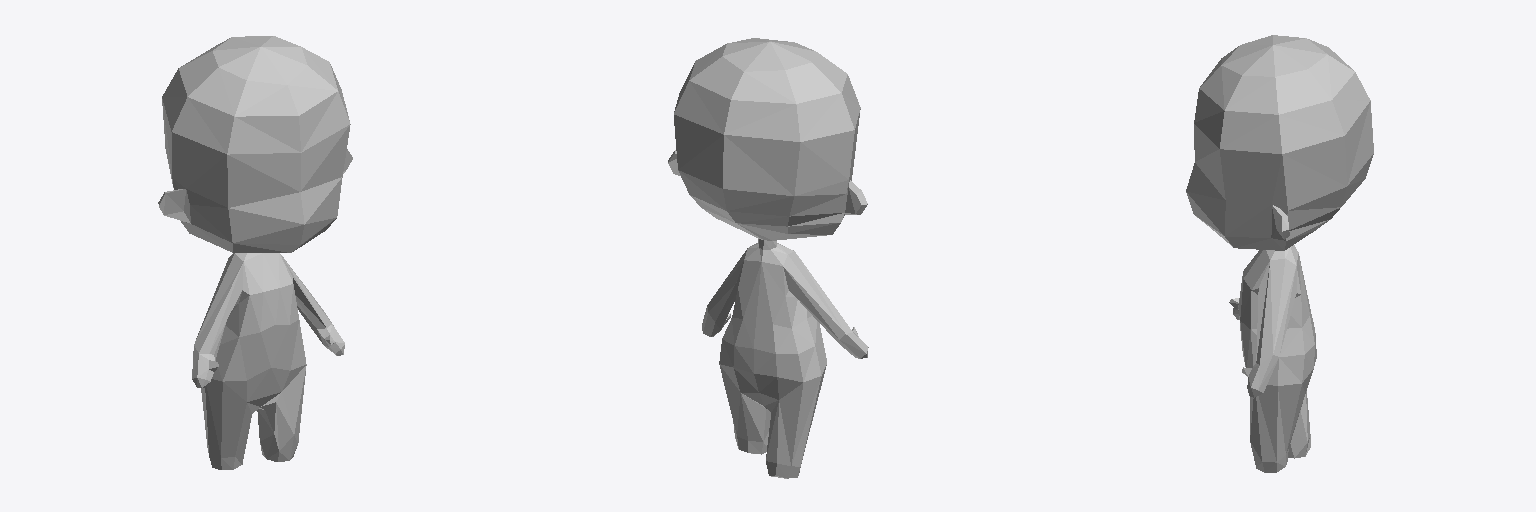
The model's file is player.obj.
3 views of the same model, side by side, from view 1: azimuth 30°, elevation 25°; view 2: azimuth 150°, elevation 25°; view 3: azimuth 270°, elevation 25° (orthographic).
Parts seen in each view (by area): view 1: Walter_mesh; view 2: Walter_mesh; view 3: Walter_mesh.
Part boxes in pixels (x1,y1,x2,y2): Walter_mesh: (158,36,352,469); Walter_mesh: (668,38,868,478); Walter_mesh: (1186,35,1373,472).
Bounding box in the file's own units: 0.0159 × 0.0326 × 0.0131.